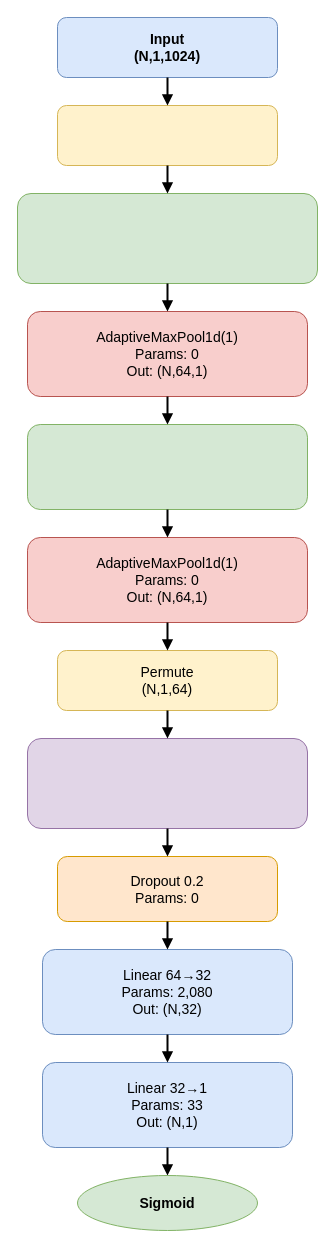
Some shapes in this 335 by 1248 pixel diagram are drawn without their labels. Here are the shapes that lost their labels. From the top down, the box of each, then its label:
(56, 104, 278, 166): Permute (N,1024,1)
(16, 192, 318, 284): Conv1d 1024→64, k=3, p=1 Params: 196,672 Out: (N,64,1)
(26, 424, 308, 510): Conv1d 64→64, k=1 Params: 4,160 Out: (N,64,1)
(26, 738, 308, 828): LSTM 64→64, 1 layer Params: 33,280 Out: (N,1,64)
